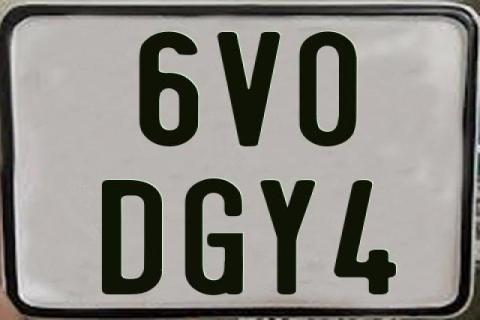0: (333, 179, 399, 297), (138, 30, 202, 150), (297, 31, 358, 147)
D: (100, 179, 162, 299)
G: (183, 177, 241, 296)
V: (215, 32, 281, 150)
Y: (257, 178, 312, 296)
